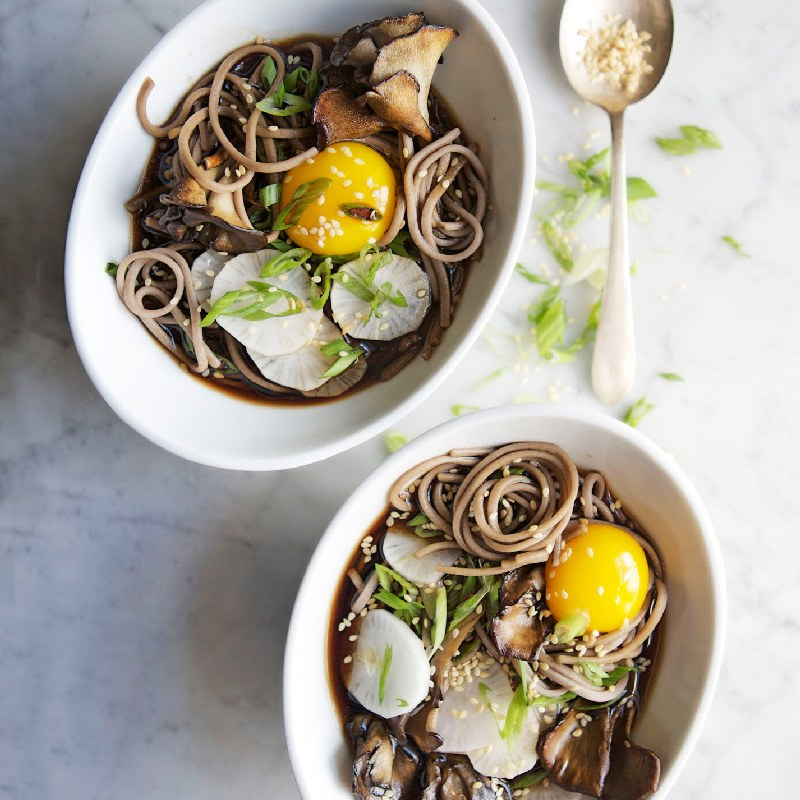Soba: (143, 45, 488, 382), (362, 451, 694, 720)
